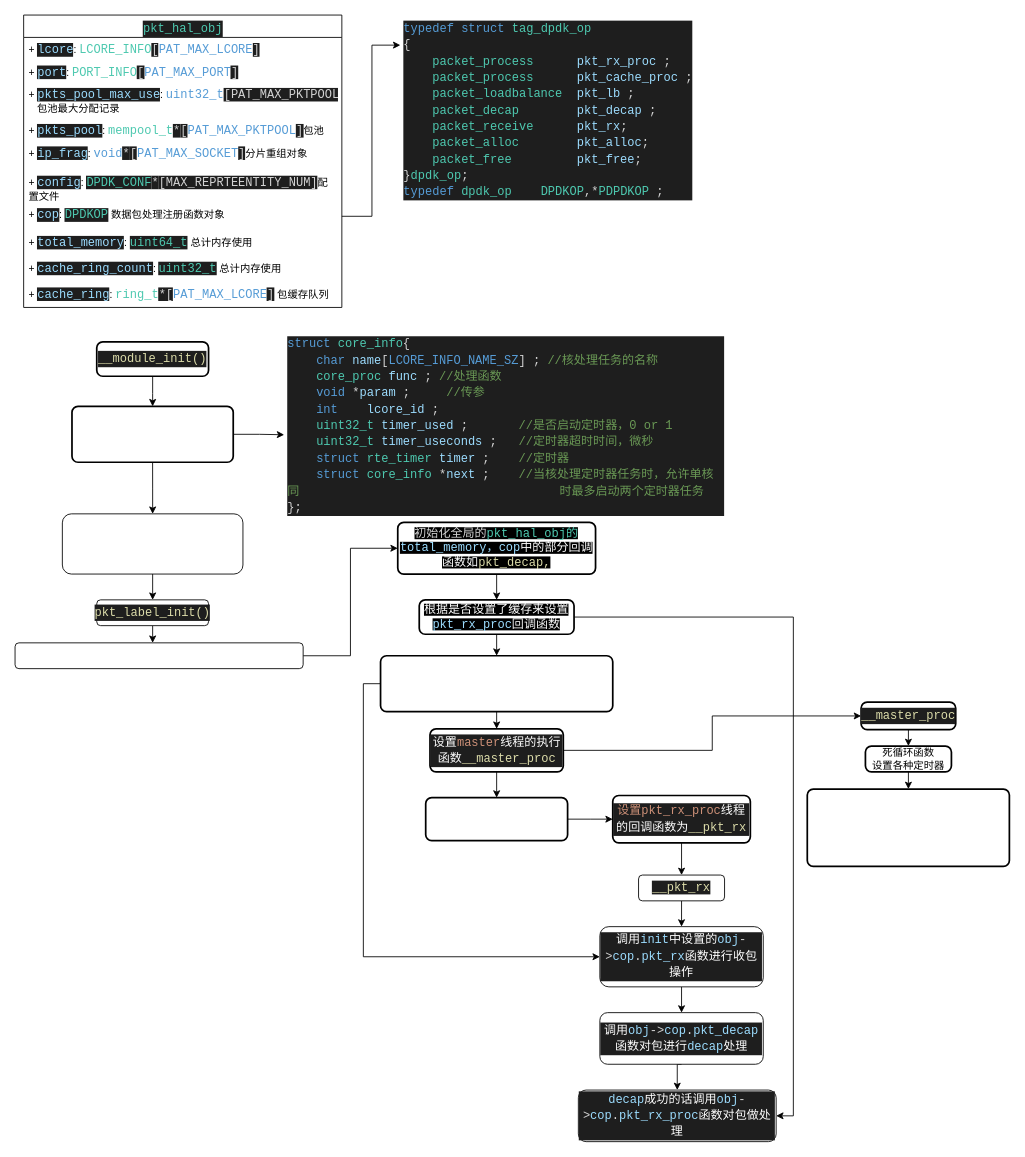
The diagram is 1025 pixels wide and 1157 high, and some of its shapes have lost their labels. Here are the shapes that lost their labels. From the top down, the centre of each, then its label:
At point (152, 434): "lcore_manage_init() 为 lcore_manage_info 结构体数组分配空间".
At point (152, 543): "pkt_decap_init() 分配存放 decap_counter 结构体数组的共享内存".
At point (158, 655): "pkt_hal_init ( pat_pkt_proc_func pkt_proc )".
At point (496, 683): "根据命令行读取的 pkt_type 设置不同的 pkt_rx、 pkt_alloc和 pkt_free， 即负责具体收报事务的函数".
At point (496, 818): "__map_port_to_lcore()".
At point (908, 827): "定时执行 extract_so_check、 report_zip_write_result_dump 等函数".
